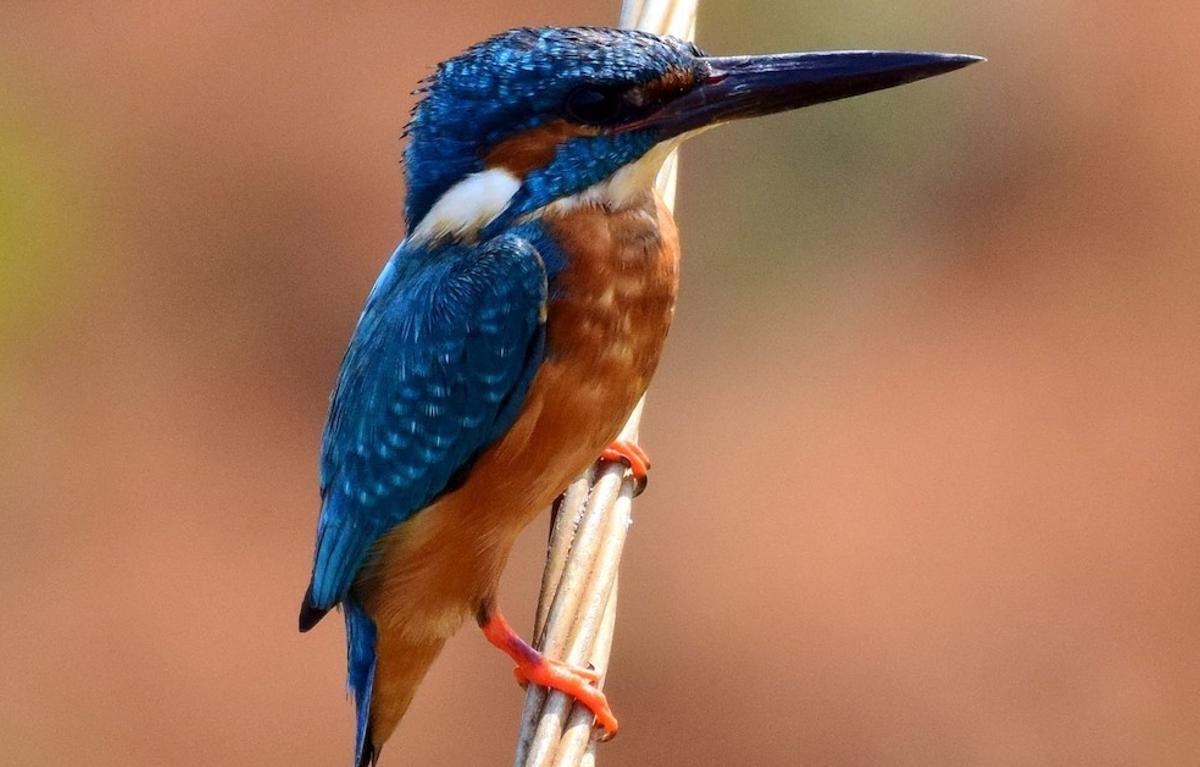kingfisher: (253, 26, 993, 750)
